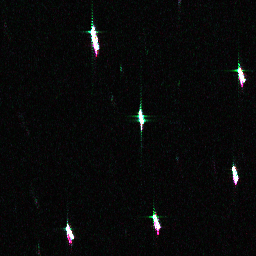ship: (86, 23, 102, 52), (229, 163, 241, 185), (235, 64, 247, 85), (63, 223, 76, 242), (150, 212, 163, 230), (135, 108, 146, 126)
